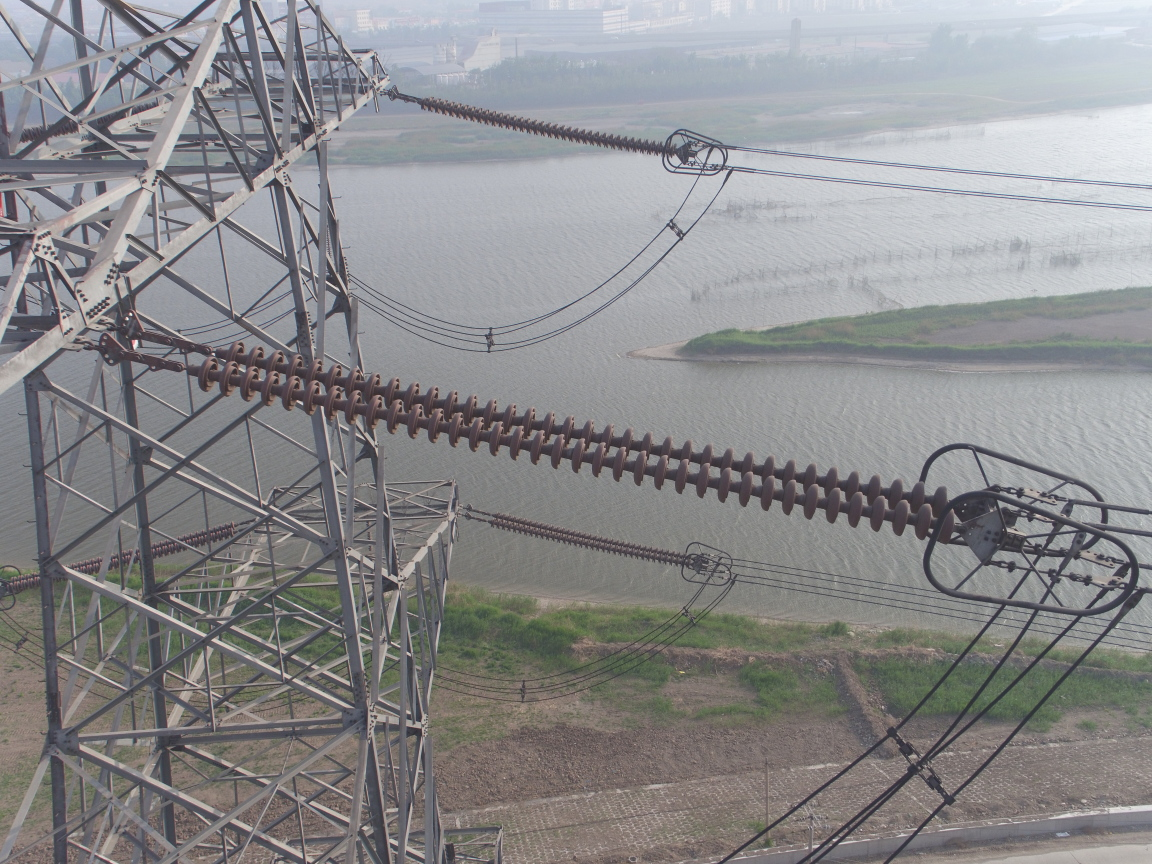insulator: (182, 338, 972, 545), (407, 91, 679, 162), (480, 506, 696, 572)
